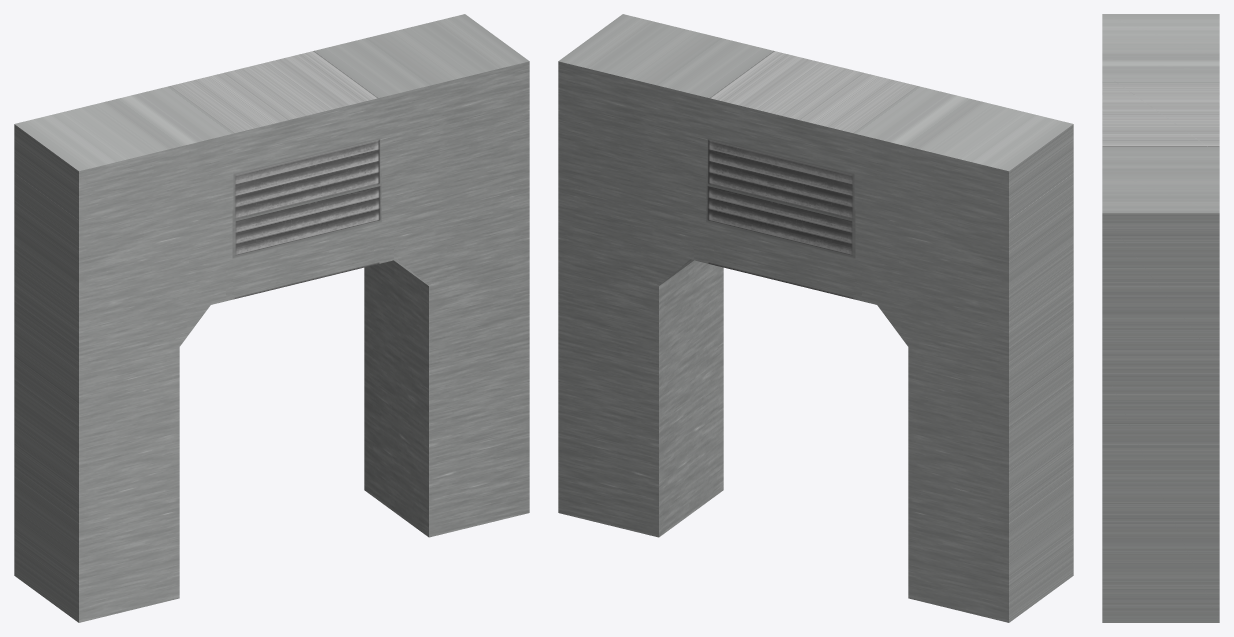
Rendered from machine_door_frame.glb.
The picture shows the model from 3 angles, left to right: view 1: azimuth 30°, elevation 25°; view 2: azimuth 150°, elevation 25°; view 3: azimuth 270°, elevation 25°; orthographic projection. The views are drawn at different scales.
Parts seen in each view (by area): view 1: machine_frame; view 2: machine_frame; view 3: machine_frame.
Part boxes in pixels (x1,y1,x2,y2): machine_frame: (14,14,529,622); machine_frame: (558,14,1073,622); machine_frame: (1102,14,1219,622).
Bounding box in the file's own units: 5.14 × 4.92 × 1.28.
1 material, 1 textured.
